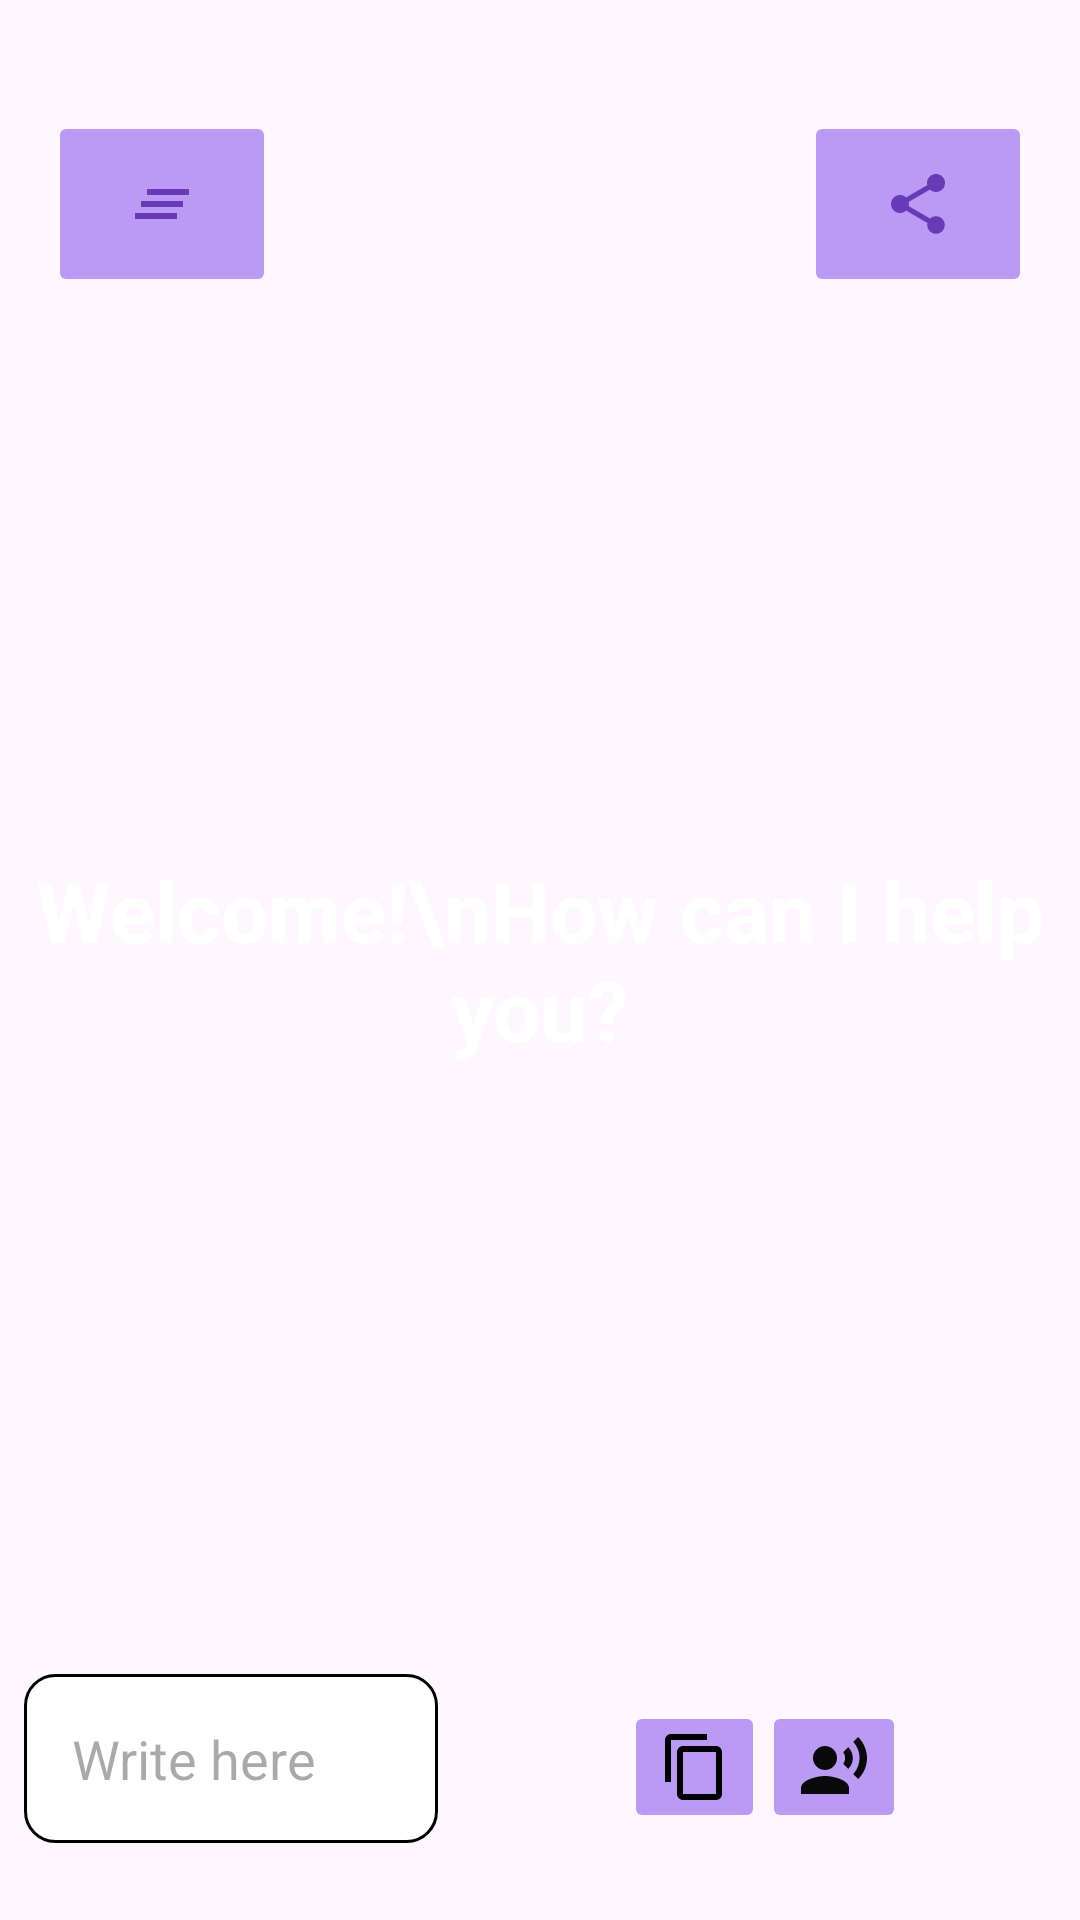

Named icons in this screenshot (1080x1920) and their centers, (x=x, y=y):
clear all: (x=162, y=204)
Copy Message: (x=694, y=1767)
record voice over: (x=834, y=1767)
share: (x=918, y=204)
